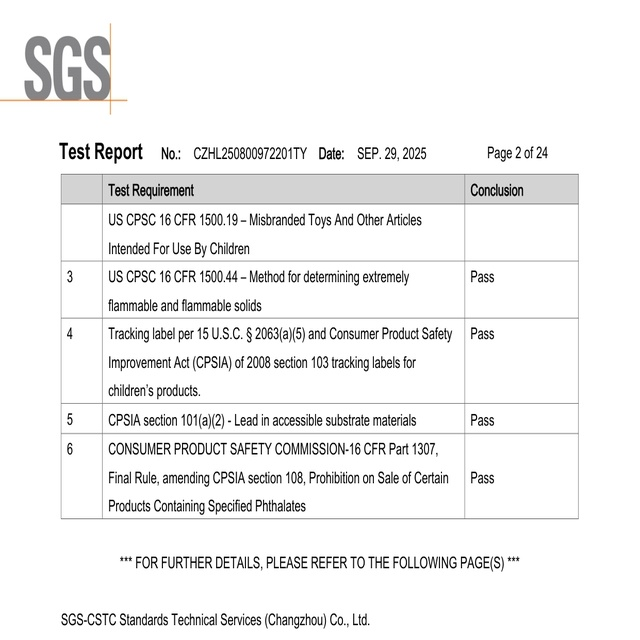sgs: (25, 36, 112, 101)
